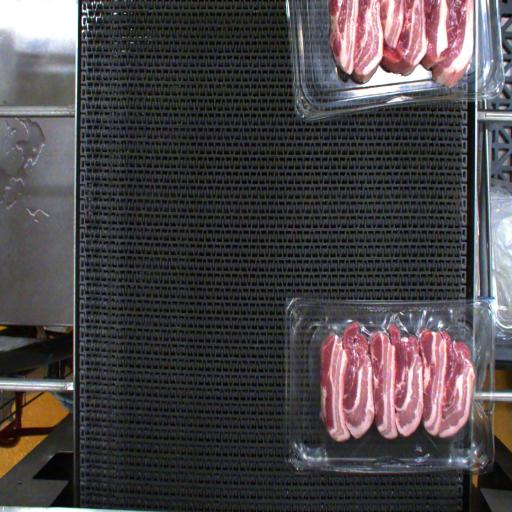unsealed: (302, 295, 491, 472)
